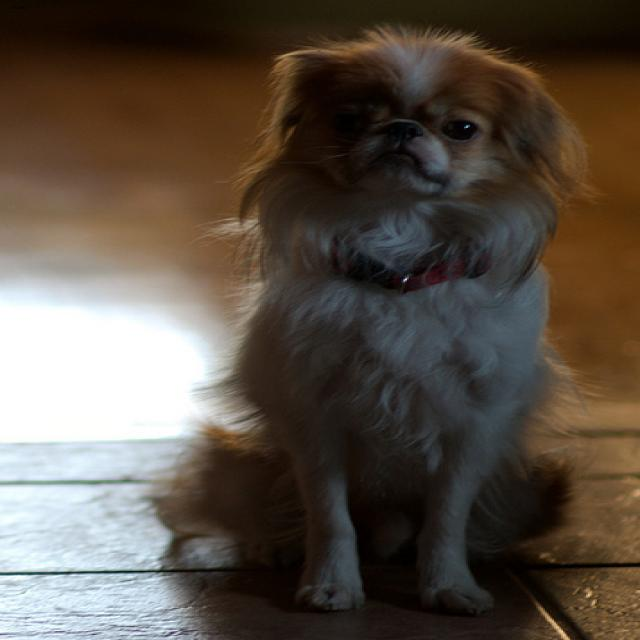dog-japanese_chin: (127, 17, 602, 620)
